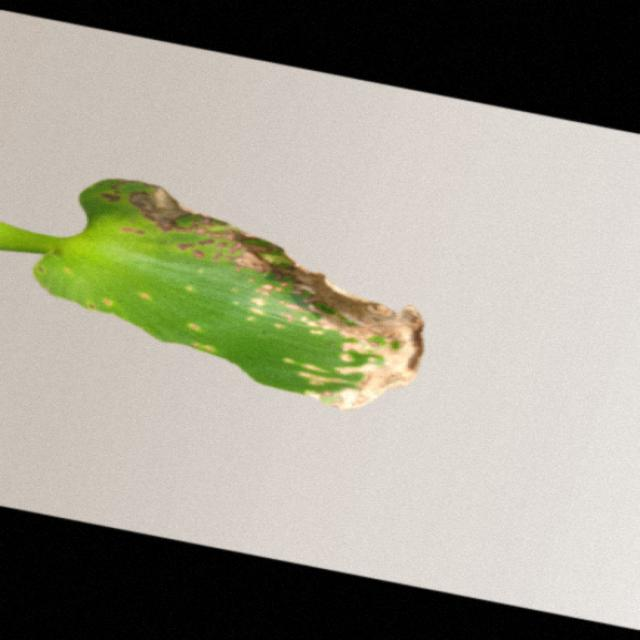daun berpenyakit bercak: (0, 180, 423, 409)
